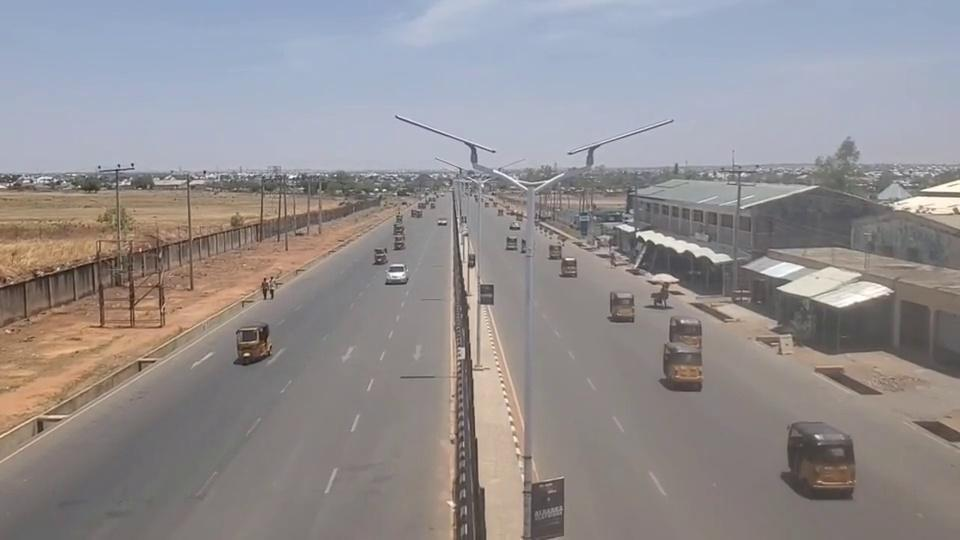keke: (662, 340, 704, 396)
